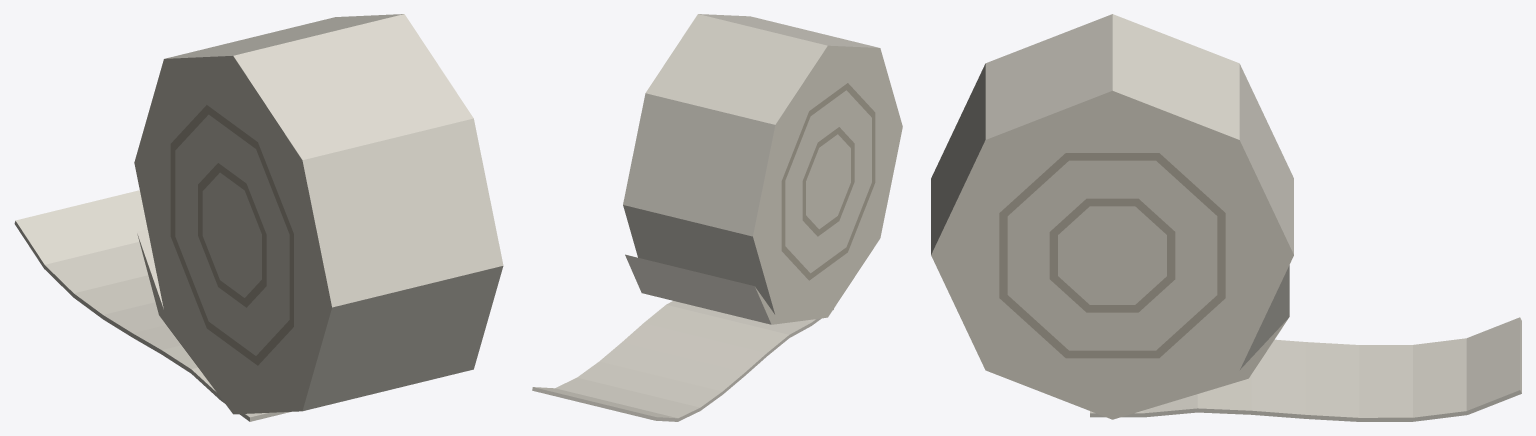
The model's file is bandaz-Bu5lx-L6.glb.
3 views of the same model, side by side, from view 1: azimuth 30°, elevation 25°; view 2: azimuth 150°, elevation 25°; view 3: azimuth 270°, elevation 25° (orthographic). The views are drawn at different scales.
Parts seen in each view (by area): view 1: Gauze, Ogon; view 2: Gauze, Ogon; view 3: Gauze, Ogon.
Boxes of the visible parts, bbox=[...] form: Gauze: bbox=[134, 14, 503, 414]; Ogon: bbox=[14, 190, 289, 421]; Gauze: bbox=[623, 14, 902, 324]; Ogon: bbox=[532, 301, 833, 421]; Gauze: bbox=[931, 14, 1293, 419]; Ogon: bbox=[1090, 317, 1521, 421].
Size of the model in its own units: 0.404 by 0.8101 by 1.3.
